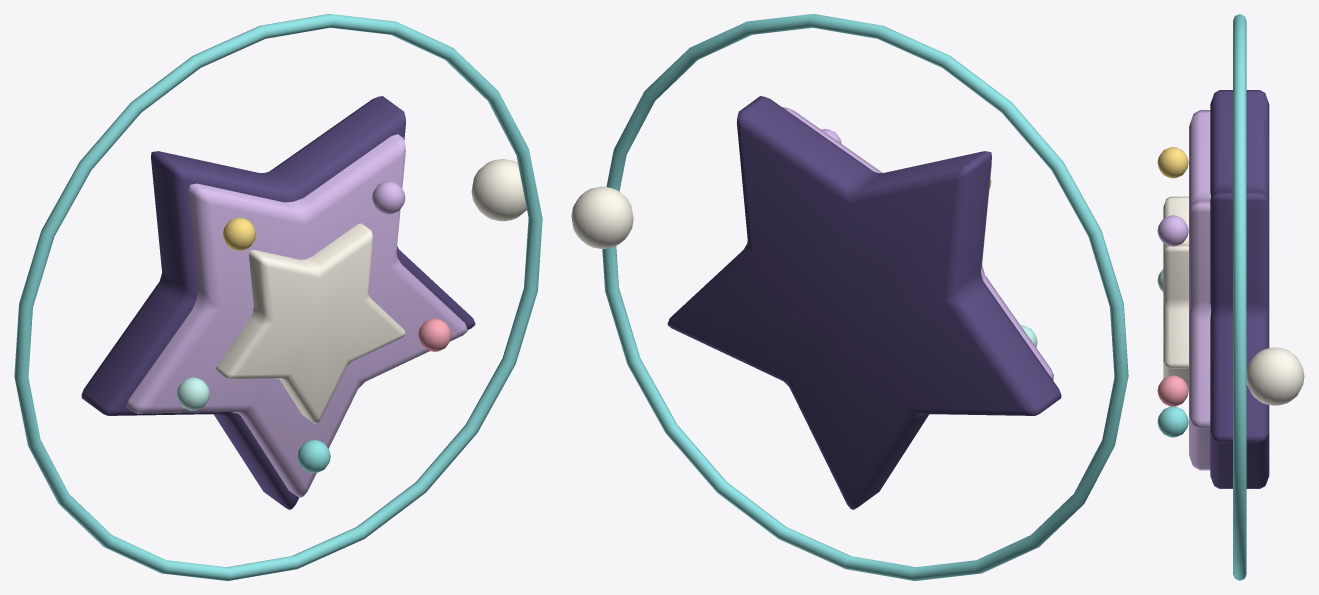
File: chamber_star.glb
The picture shows the model from 3 angles, left to right: view 1: azimuth 30°, elevation 25°; view 2: azimuth 150°, elevation 25°; view 3: azimuth 270°, elevation 25°; orthographic projection. The views are drawn at different scales.
Visible parts, largest first — view 1: PaintedFace.002, OrbitRing, InkOutline.002, PearlInset.002, MoonPearl, Pearl_2.002, Pearl_4.002, Pearl_1.002, Pearl_0.002, Pearl_3.002; view 2: InkOutline.002, OrbitRing, MoonPearl, PaintedFace.002; view 3: InkOutline.002, OrbitRing, PaintedFace.002, PearlInset.002, MoonPearl, Pearl_1.002, Pearl_0.002, Pearl_2.002, Pearl_3.002.
Boxes of the visible parts, x1,y1,x2,y2 form: PaintedFace.002: [126, 134, 467, 497]; OrbitRing: [14, 14, 542, 580]; InkOutline.002: [81, 96, 475, 509]; PearlInset.002: [215, 223, 405, 423]; MoonPearl: [471, 159, 526, 221]; Pearl_2.002: [372, 181, 405, 214]; Pearl_4.002: [176, 377, 209, 410]; Pearl_1.002: [418, 318, 451, 351]; Pearl_0.002: [297, 439, 330, 472]; Pearl_3.002: [222, 217, 256, 250]; InkOutline.002: [667, 96, 1061, 509]; OrbitRing: [602, 14, 1128, 580]; MoonPearl: [571, 186, 633, 248]; PaintedFace.002: [782, 107, 1053, 380]; InkOutline.002: [1210, 90, 1269, 488]; OrbitRing: [1233, 14, 1246, 580]; PaintedFace.002: [1189, 110, 1211, 470]; PearlInset.002: [1163, 196, 1188, 390]; MoonPearl: [1246, 347, 1304, 405]; Pearl_1.002: [1157, 375, 1188, 406]; Pearl_0.002: [1157, 406, 1188, 437]; Pearl_2.002: [1157, 215, 1188, 246]; Pearl_3.002: [1157, 147, 1188, 178].
Size of the model in its own units: 2.94 by 2.9 by 0.75.
